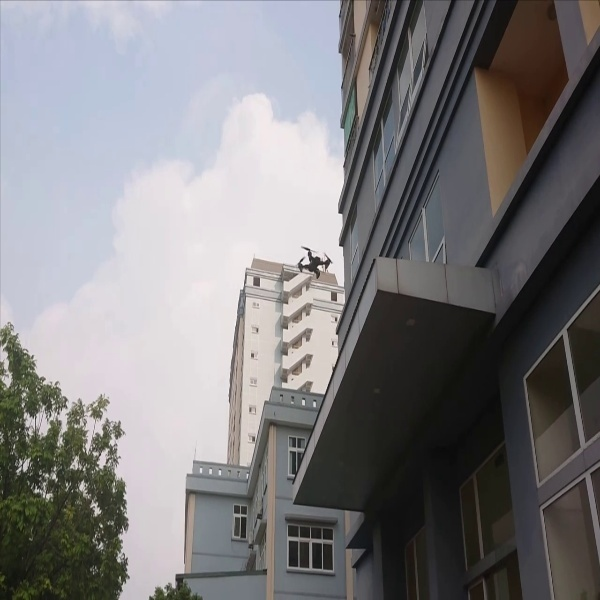drone: (288, 242, 334, 284)
